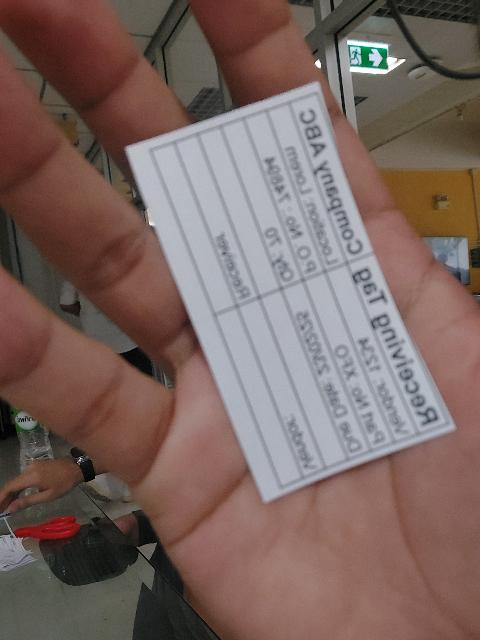PO no: (243, 110, 326, 280)
part no: (302, 271, 396, 451)
qty: (220, 119, 304, 290)
tags: (126, 83, 455, 502)
